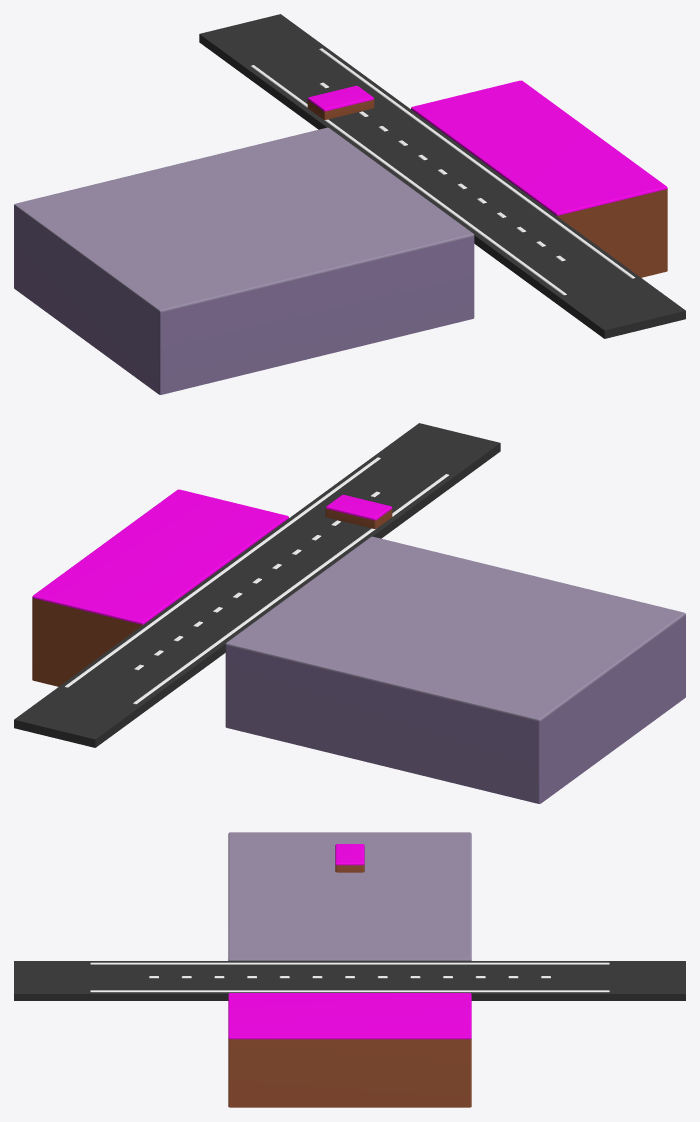
The model's file is mesh_floor.fbx.
The picture shows the model from 3 angles, top to bottom: view 1: azimuth 30°, elevation 25°; view 2: azimuth 150°, elevation 25°; view 3: azimuth 270°, elevation 25°; orthographic projection. The views are drawn at different scales.
Visible parts, largest first — view 1: mesh_floor, mesh_thing; view 2: mesh_floor, mesh_thing; view 3: mesh_floor, mesh_thing.
Boxes of the visible parts, x1=… form: mesh_floor: x1=14, y1=14, x2=685, y2=394; mesh_thing: x1=307, y1=85, x2=374, y2=119; mesh_floor: x1=14, y1=423, x2=685, y2=803; mesh_thing: x1=325, y1=494, x2=392, y2=528; mesh_floor: x1=14, y1=832, x2=685, y2=1107; mesh_thing: x1=335, y1=844, x2=364, y2=872.
Bounding box in the file's own units: 50 × 17.13 × 68.97.
Materials: 1 (1 with a texture image).
